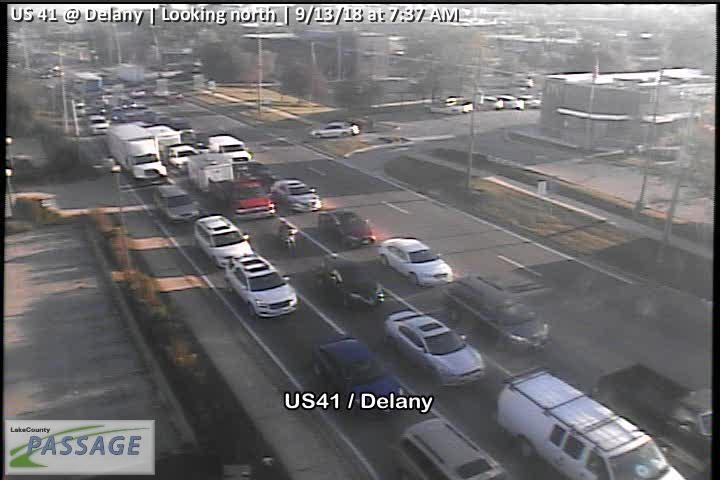Motorbike: (274, 216, 301, 254)
SUV: (441, 275, 554, 356), (390, 417, 512, 480), (224, 255, 299, 319), (195, 215, 255, 268), (152, 182, 201, 222), (272, 178, 321, 212), (167, 145, 201, 170), (86, 113, 110, 137), (497, 94, 524, 111), (479, 94, 504, 110)
Sedan: (381, 308, 486, 390), (311, 333, 410, 418), (375, 236, 455, 289), (312, 254, 386, 311), (318, 207, 378, 249), (308, 118, 362, 140), (235, 160, 275, 187), (523, 95, 543, 109), (129, 87, 147, 98)
Truck: (496, 367, 686, 480), (590, 360, 720, 480), (188, 152, 277, 220), (104, 122, 168, 180), (208, 133, 252, 162), (70, 72, 104, 94), (114, 63, 143, 83)
